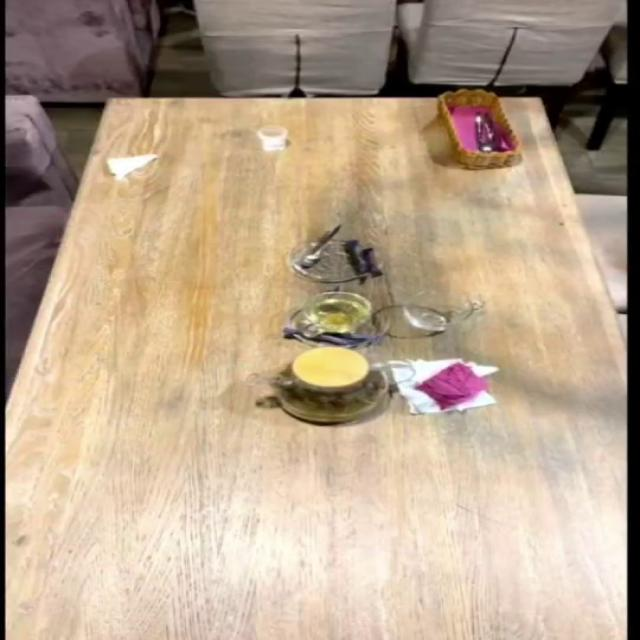tea: (269, 346, 390, 424)
